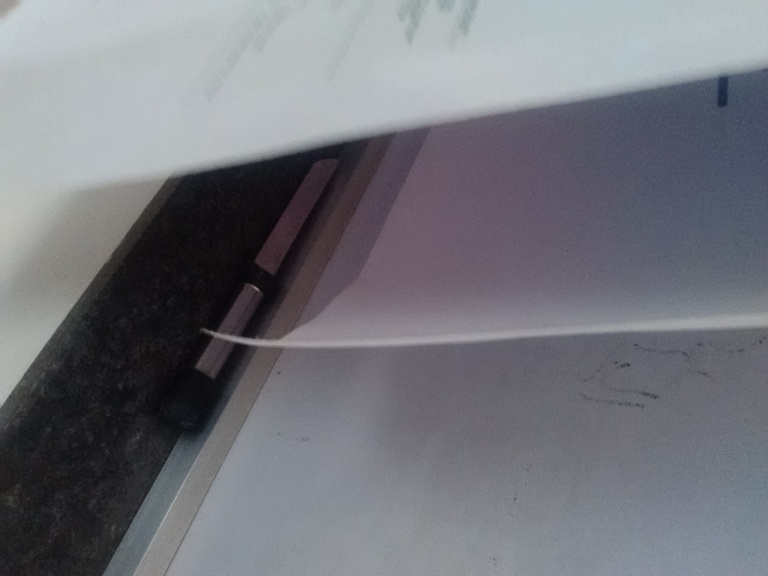knife: (158, 153, 338, 436)
